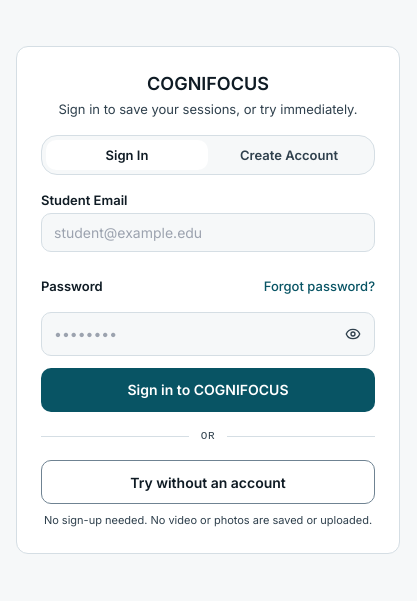
StudentLoginView Component › displays error feedback when authentication fails
The image size is (417, 601).
Step 1. Type "wrong@student.edu" into the field labelled "Student Email" → coordinates (208, 232), box [41, 213, 375, 252]
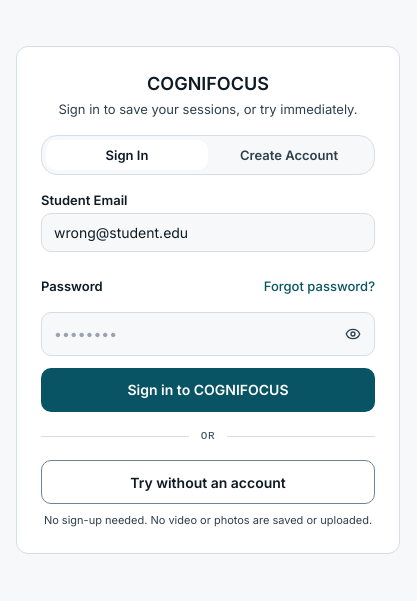
Step 2. Type "badpassword" into the password field labelled "Password" → coordinates (208, 334), box [41, 312, 375, 356]
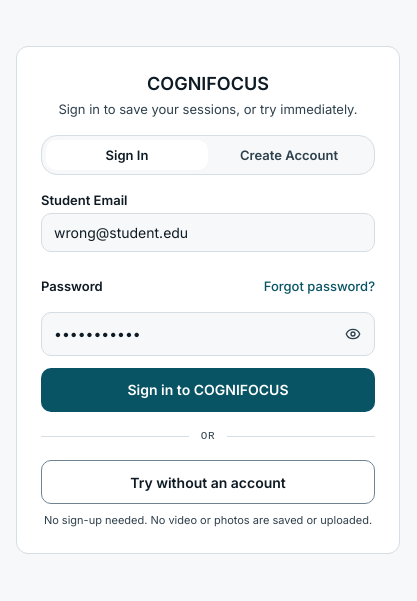
Step 3. Click the button "Sign in to COGNIFOCUS" → coordinates (208, 390), box [41, 368, 375, 412]
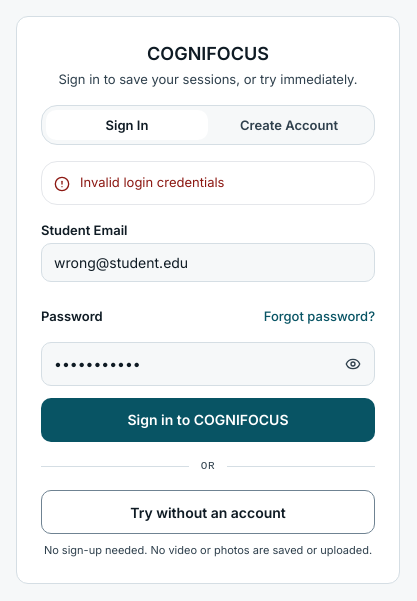
Check: the text "Invalid login credentials" is shown, box [80, 174, 224, 192]
